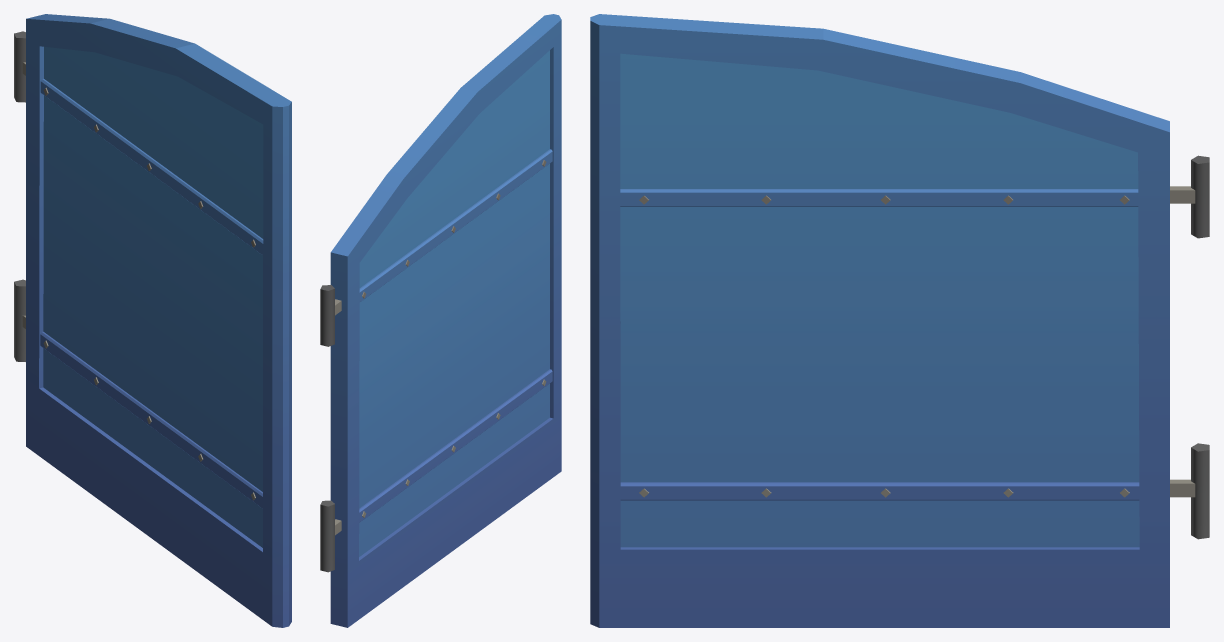
The model's file is WallFence_3_Gate_A.fbx.
3 views of the same model, side by side, from view 1: azimuth 30°, elevation 25°; view 2: azimuth 150°, elevation 25°; view 3: azimuth 270°, elevation 25° (orthographic). The views are drawn at different scales.
Parts seen in each view (by area): view 1: WallFence_3_Gate_A; view 2: WallFence_3_Gate_A; view 3: WallFence_3_Gate_A.
Part boxes in pixels (x1,y1,x2,y2): WallFence_3_Gate_A: (14, 14, 291, 627); WallFence_3_Gate_A: (320, 14, 561, 627); WallFence_3_Gate_A: (590, 14, 1209, 627).
Size of the model in its own units: 8 by 203 by 189.
